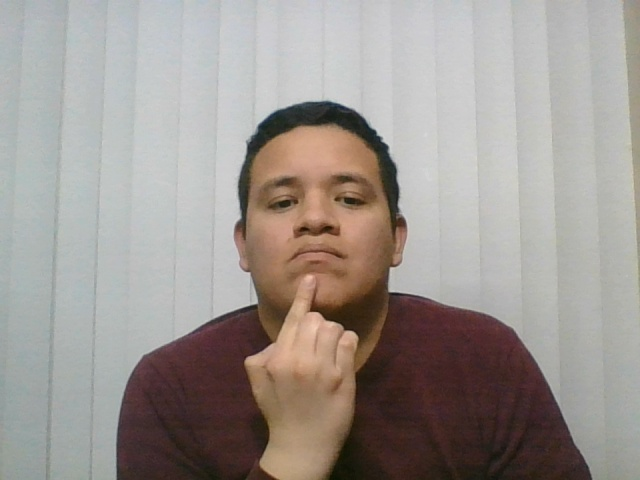Red: (200, 265, 413, 464)
